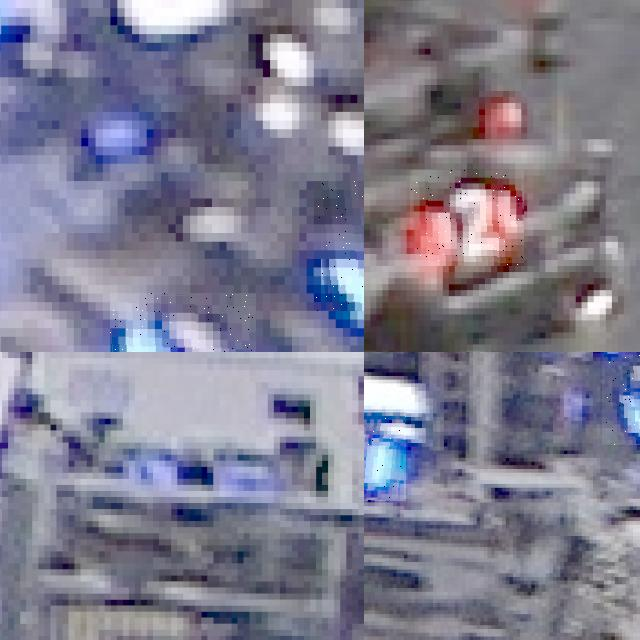B2: (364, 411, 405, 500), (602, 352, 640, 445)
B3: (110, 293, 255, 352)
R2: (410, 170, 524, 266)
